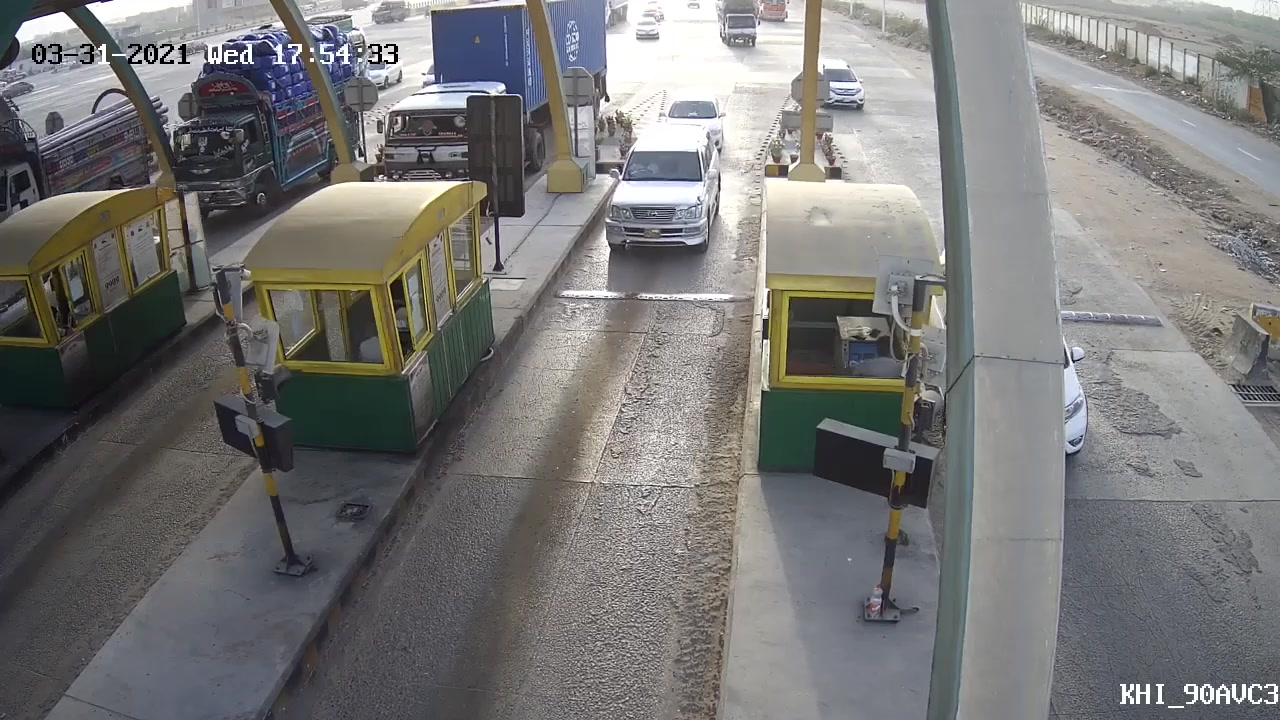F1: (589, 117, 733, 265)
